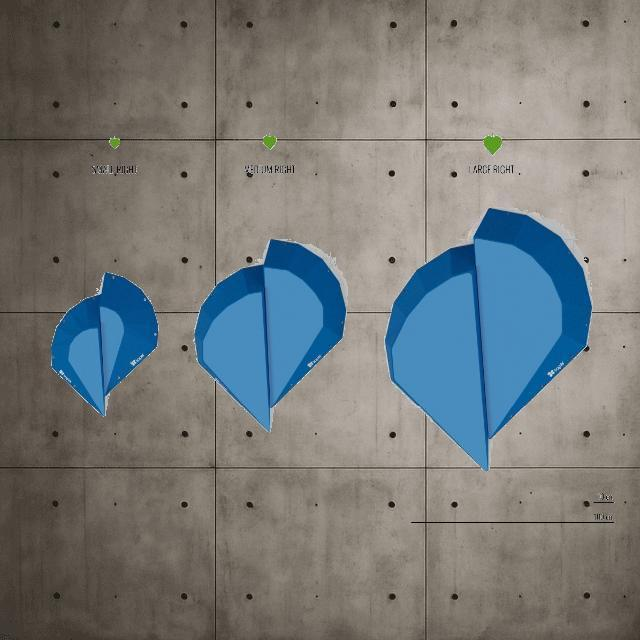Volume: (472, 207, 592, 438), (385, 243, 489, 471), (253, 239, 347, 409), (193, 264, 271, 432), (50, 294, 116, 416), (99, 272, 158, 396)
